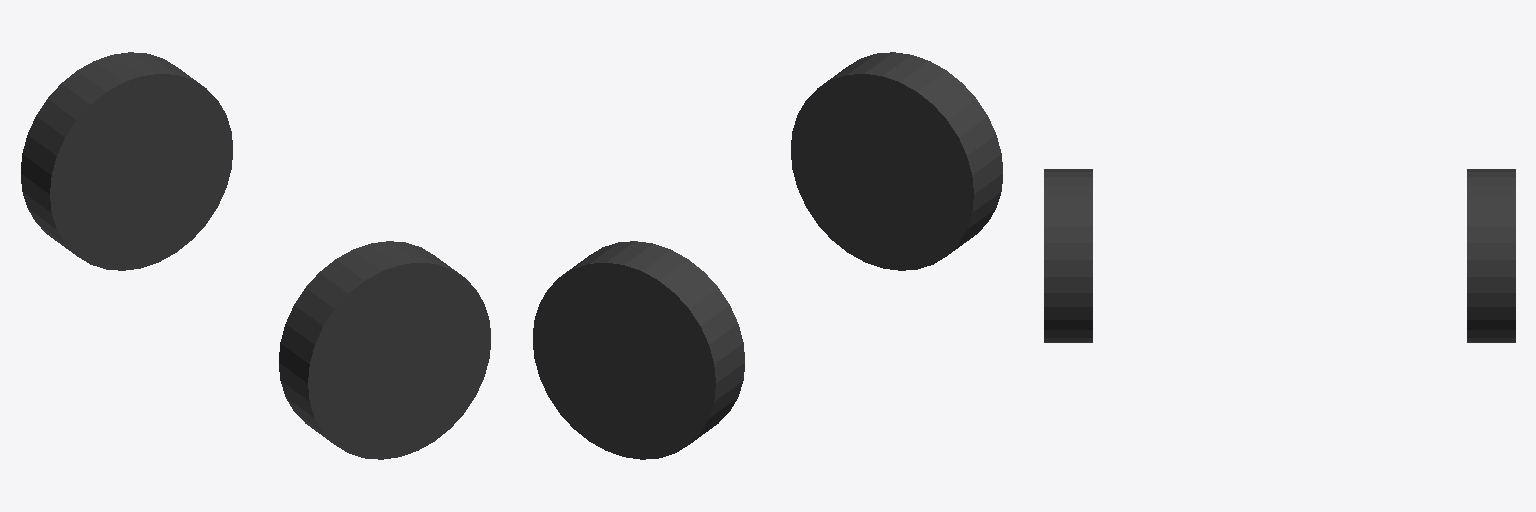
robot.urdf — turtlebot3_burger:
<?xml version="1.0" ?>
<robot name="turtlebot3_burger"
  xmlns:xacro="http://ros.org/wiki/xacro">
  <!-- <xacro:include filename="$(find turtlebot3_description)/urdf/common_properties.urdf"/> -->

  <!-- Init colour -->
  <material name="black">
      <color rgba="0.0 0.0 0.0 1.0"/>
  </material>

  <material name="dark">
    <color rgba="0.3 0.3 0.3 1.0"/>
  </material>

  <material name="light_black">
    <color rgba="0.4 0.4 0.4 1.0"/>
  </material>

  <material name="blue">
    <color rgba="0.0 0.0 0.8 1.0"/>
  </material>

  <material name="green">
    <color rgba="0.0 0.8 0.0 1.0"/>
  </material>

  <material name="grey">
    <color rgba="0.5 0.5 0.5 1.0"/>
  </material>

  <material name="orange">
    <color rgba="1.0 0.4235 0.0392 1.0"/>
  </material>

  <material name="brown">
    <color rgba="0.8706 0.8118 0.7647 1.0"/>
  </material>

  <material name="red">
    <color rgba="0.8 0.0 0.0 1.0"/>
  </material>

  <material name="white">
    <color rgba="1.0 1.0 1.0 1.0"/>
  </material>

  <link name="base_footprint"/>

  <joint name="base_joint" type="fixed">
    <parent link="base_footprint"/>
    <child link="base_link"/>
    <origin xyz="0.0 0.0 0.010" rpy="0 0 0"/>
  </joint>

  <link name="base_link">
    <visual>
      <origin xyz="-0.032 0 0.0" rpy="0 0 0"/>
      <geometry>
        <mesh filename="package://followme_turtlebot3_gazebo/models/turtlebot3_common/meshes/burger_base.dae" scale="0.001 0.001 0.001"/>
      </geometry>
      <material name="light_black"/>
    </visual>

    <collision>
      <origin xyz="-0.032 0 0.070" rpy="0 0 0"/>
      <geometry>
        <box size="0.140 0.140 0.143"/>
      </geometry>
    </collision>

    <inertial>
      <origin xyz="0 0 0" rpy="0 0 0"/>
      <mass value="8.2573504e-01"/>
      <inertia ixx="2.2124416e-03" ixy="-1.2294101e-05" ixz="3.4938785e-05" iyy="2.1193702e-03" iyz="-5.0120904e-06" izz="2.0064271e-03" />
    </inertial>
  </link>

  <joint name="wheel_left_joint" type="continuous">
    <parent link="base_link"/>
    <child link="wheel_left_link"/>
    <origin xyz="0.0 0.08 0.023" rpy="-1.57 0 0"/>
    <axis xyz="0 0 1"/>
  </joint>

  <link name="wheel_left_link">
    <visual>
      <origin xyz="0 0 0" rpy="1.57 0 0"/>
      <geometry>
        <mesh filename="package://followme_turtlebot3_gazebo/models/turtlebot3_common/meshes/tire.dae" scale="0.001 0.001 0.001"/>
      </geometry>
      <material name="dark"/>
    </visual>

    <collision>
      <origin xyz="0 0 0" rpy="0 0 0"/>
      <geometry>
        <cylinder length="0.018" radius="0.033"/>
      </geometry>
    </collision>

    <inertial>
      <origin xyz="0 0 0" />
      <mass value="2.8498940e-02" />
      <inertia ixx="1.1175580e-05" ixy="-4.2369783e-11" ixz="-5.9381719e-09" iyy="1.1192413e-05" iyz="-1.4400107e-11" izz="2.0712558e-05" />
    </inertial>
  </link>

  <joint name="wheel_right_joint" type="continuous">
    <parent link="base_link"/>
    <child link="wheel_right_link"/>
    <origin xyz="0.0 -0.080 0.023" rpy="-1.57 0 0"/>
    <axis xyz="0 0 1"/>
  </joint>

  <link name="wheel_right_link">
    <visual>
      <origin xyz="0 0 0" rpy="1.57 0 0"/>
      <geometry>
        <mesh filename="package://followme_turtlebot3_gazebo/models/turtlebot3_common/meshes/tire.dae" scale="0.001 0.001 0.001"/>
      </geometry>
      <material name="dark"/>
    </visual>

    <collision>
      <origin xyz="0 0 0" rpy="0 0 0"/>
      <geometry>
        <cylinder length="0.018" radius="0.033"/>
      </geometry>
    </collision>

    <inertial>
      <origin xyz="0 0 0" />
      <mass value="2.8498940e-02" />
      <inertia ixx="1.1175580e-05" ixy="-4.2369783e-11" ixz="-5.9381719e-09" iyy="1.1192413e-05" iyz="-1.4400107e-11" izz="2.0712558e-05" />
    </inertial>
  </link>

  <joint name="caster_back_joint" type="fixed">
    <parent link="base_link"/>
    <child link="caster_back_link"/>
    <origin xyz="-0.081 0 -0.004" rpy="-1.57 0 0"/>
  </joint>

  <link name="caster_back_link">
    <collision>
      <origin xyz="0 0.001 0" rpy="0 0 0"/>
      <geometry>
        <box size="0.030 0.009 0.020"/>
      </geometry>
    </collision>

    <inertial>
      <origin xyz="0 0 0" />
      <mass value="0.005" />
      <inertia ixx="0.001" ixy="0.0" ixz="0.0" iyy="0.001" iyz="0.0" izz="0.001" />
    </inertial>
  </link>

  <joint name="imu_joint" type="fixed">
    <parent link="base_link"/>
    <child link="imu_link"/>
    <origin xyz="-0.032 0 0.068" rpy="0 0 0"/>
  </joint>

  <link name="imu_link"/>

  <joint name="scan_joint" type="fixed">
    <parent link="base_link"/>
    <child link="base_scan"/>
    <origin xyz="-0.032 0 0.172" rpy="0 0 0"/>
  </joint>

  <link name="base_scan">
    <visual>
      <origin xyz="0 0 0.0" rpy="0 0 0"/>
      <geometry>
        <mesh filename="package://followme_turtlebot3_gazebo/models/turtlebot3_common/meshes/lds.dae" scale="0.001 0.001 0.001"/>
      </geometry>
      <material name="dark"/>
    </visual>

    <collision>
      <origin xyz="0.015 0 -0.0065" rpy="0 0 0"/>
      <geometry>
        <cylinder length="0.0315" radius="0.055"/>
      </geometry>
    </collision>

    <inertial>
      <mass value="0.114" />
      <origin xyz="0 0 0" />
      <inertia ixx="0.001" ixy="0.0" ixz="0.0" iyy="0.001" iyz="0.0" izz="0.001" />
    </inertial>
  </link>

</robot>

--- What the picture shows (computed from the rendered views, not written in the file) ---
Views: 3 orthographic renders of the robot side by side, from view 1: azimuth 30°, elevation 25°; view 2: azimuth 150°, elevation 25°; view 3: azimuth 270°, elevation 25°.
Model turtlebot3_burger with 7 links and 6 joints (2 continuous, 4 fixed), rooted at base_footprint, posed every joint at zero.
Visible links, largest first — view 1: wheel_left_link, wheel_right_link; view 2: wheel_left_link, wheel_right_link; view 3: wheel_left_link, wheel_right_link.
Link boxes in pixels (x1,y1,x2,y2): wheel_left_link: (21,52,232,270); wheel_right_link: (279,241,490,459); wheel_left_link: (533,241,744,459); wheel_right_link: (791,52,1002,270); wheel_left_link: (1467,169,1515,342); wheel_right_link: (1044,169,1092,342).
Bounding box of the posed robot: 0.0657 × 0.1782 × 0.0657 m (x, y, z).
2 mesh visuals loaded from 3 distinct referenced files (1 Collada DAE); not drawn: 2 (reference not matched to a file when rendering).